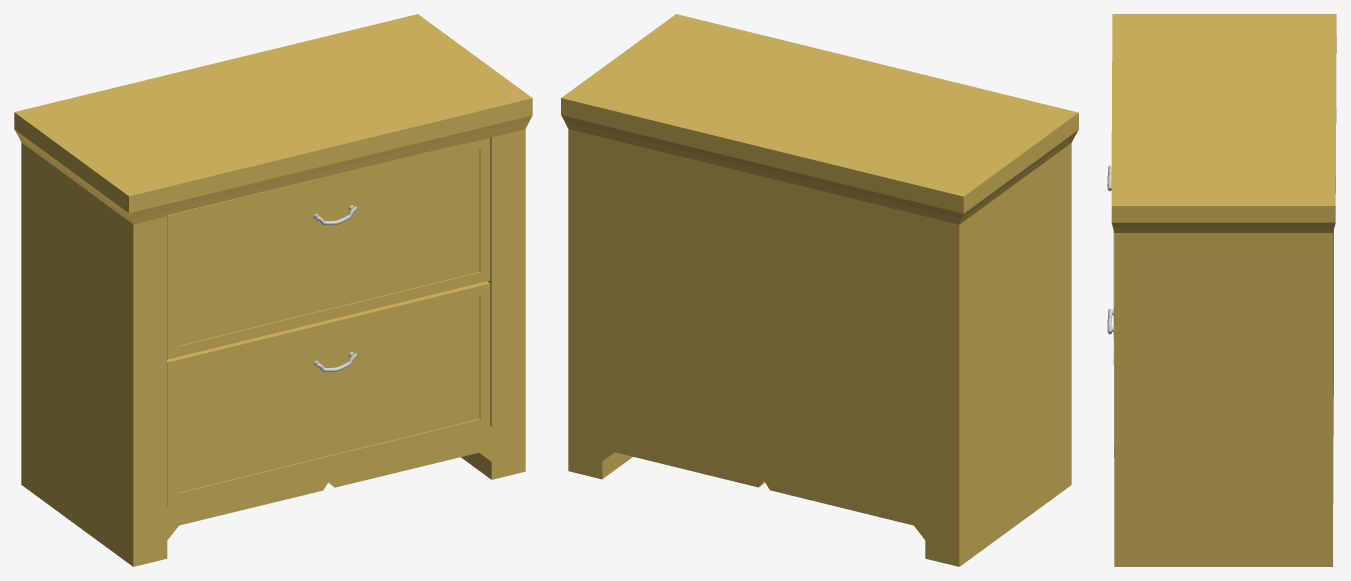
File: IKEA-Aspelund_chest-3D.obj
3 views of the same model, side by side, from view 1: azimuth 30°, elevation 25°; view 2: azimuth 150°, elevation 25°; view 3: azimuth 270°, elevation 25° (orthographic). The views are drawn at different scales.
Visible parts, largest first — view 1: Object01, Loft01, Loft02; view 2: Object01; view 3: Object01, Loft01.
Part boxes in pixels (<box>): Object01: <box>14,14,532,566</box>; Loft01: <box>167,281,490,506</box>; Loft02: <box>167,138,490,359</box>; Object01: <box>561,14,1078,566</box>; Object01: <box>1111,14,1336,566</box>; Loft01: <box>1107,231,1114,457</box>.
Size of the model in its own units: 891 by 787 by 449.
